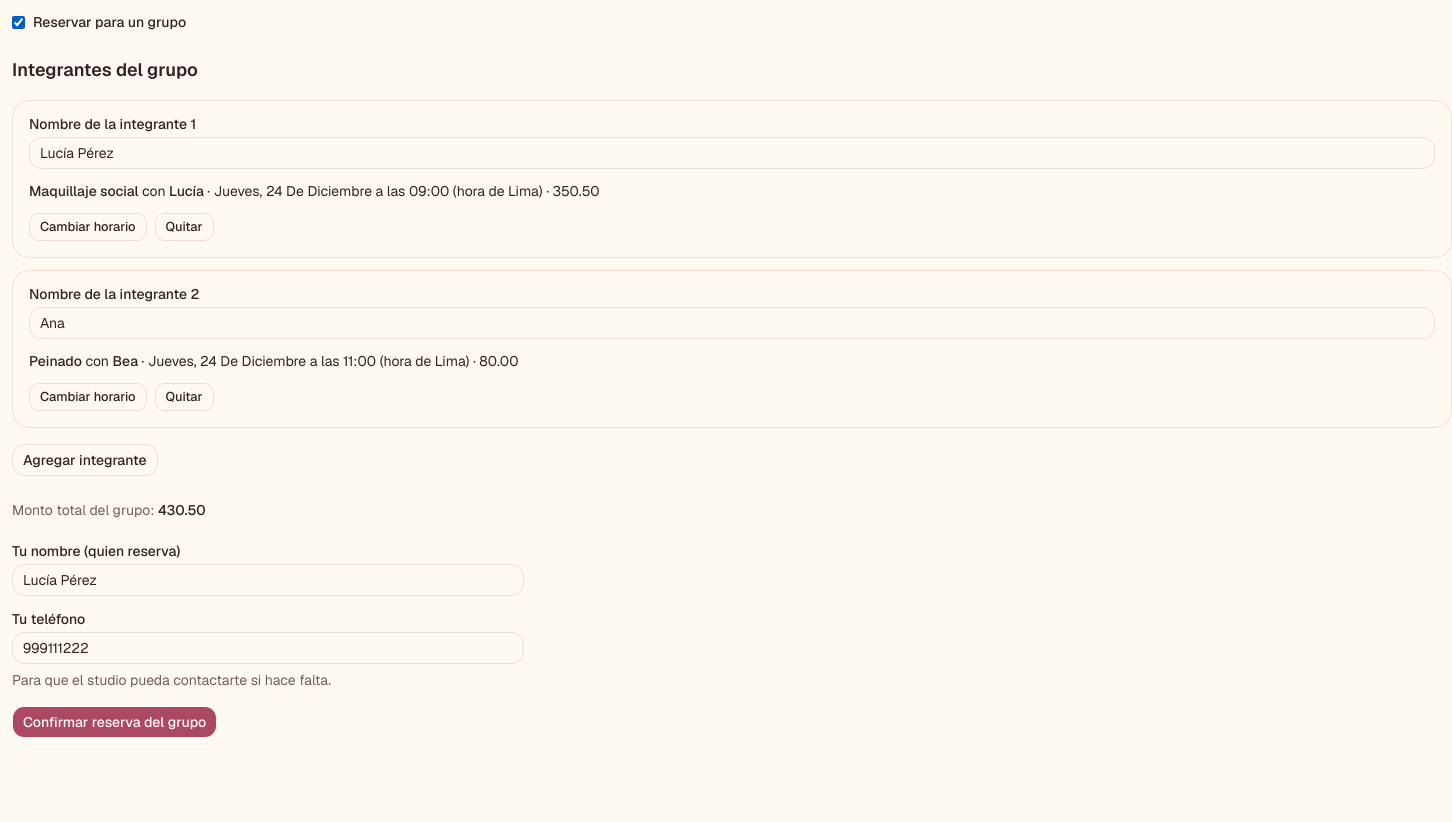
Scenario: choque parcial › un error de la lista completa (tamaño) se muestra como alerta general
The width and height of the screenshot is (1452, 822).
Click the button "Confirmar reserva del grupo" at (115, 722), box [12, 706, 217, 738]
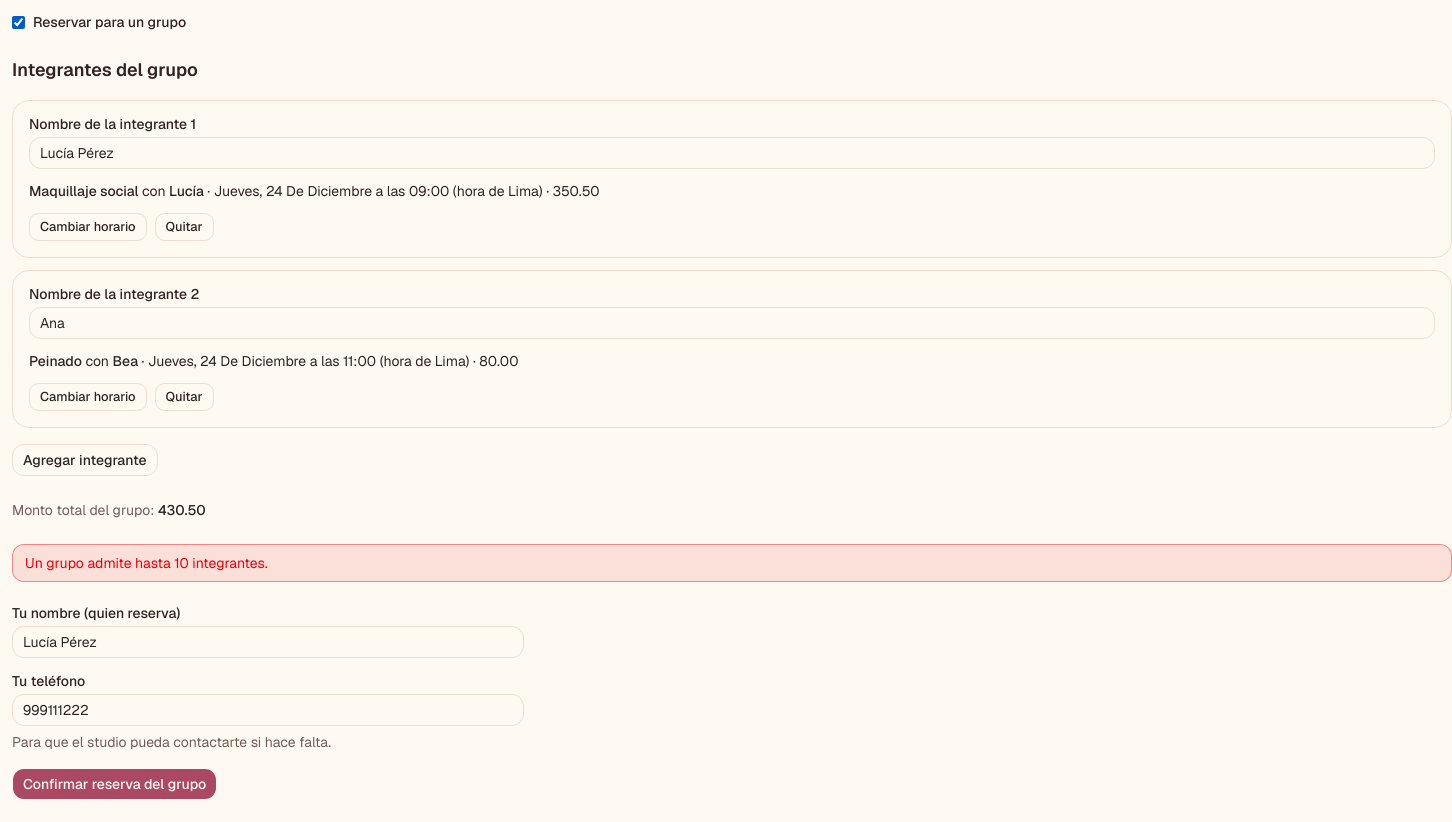
Expected: the text "Un grupo admite hasta 10 integrantes." is shown, [12, 544, 1451, 582]
